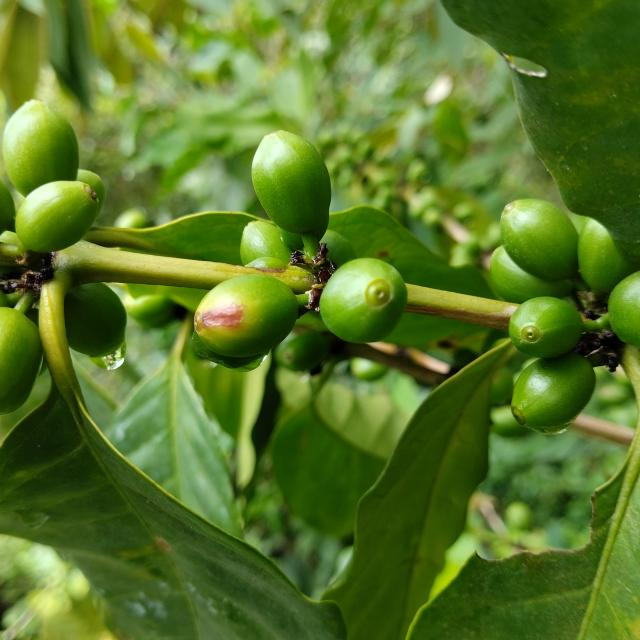green: (194, 274, 299, 358), (252, 130, 331, 238), (320, 258, 408, 343), (2, 99, 78, 196), (512, 352, 597, 434), (501, 199, 579, 281), (14, 180, 98, 252), (491, 245, 574, 304), (509, 296, 585, 358), (63, 283, 126, 357), (0, 307, 42, 415), (579, 219, 639, 294), (609, 271, 640, 348), (240, 220, 291, 265), (320, 229, 357, 266), (76, 169, 104, 213)
